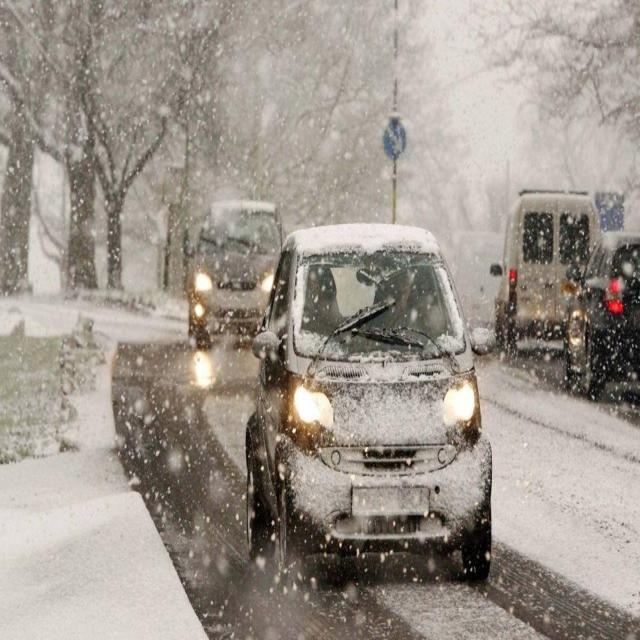Car: (298, 259, 459, 554), (197, 201, 281, 319), (576, 249, 640, 385)
Van: (521, 200, 588, 331)
